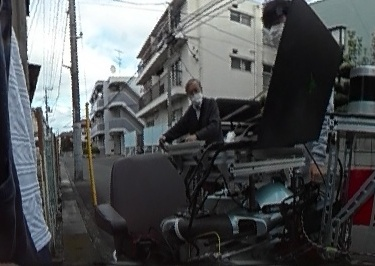person: (164, 80, 223, 141)
